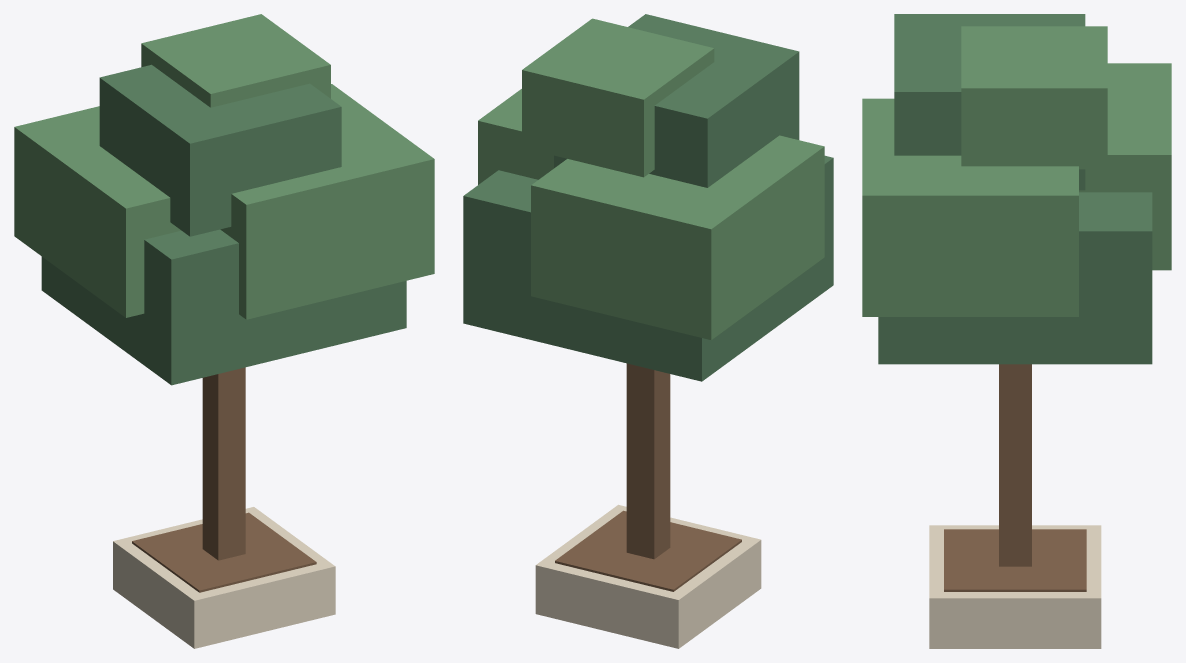
Rendered from SM_Arbol_Jardinera.fbx.
3 renders of one model, left to right at view 1: azimuth 30°, elevation 25°; view 2: azimuth 150°, elevation 25°; view 3: azimuth 270°, elevation 25°, orthographic. The views are drawn at different scales.
Visible parts, largest first — view 1: SM_Arbol_Jardinera; view 2: SM_Arbol_Jardinera; view 3: SM_Arbol_Jardinera.
Boxes of the visible parts, <box> form: SM_Arbol_Jardinera: <box>14,14,434,648</box>; SM_Arbol_Jardinera: <box>463,14,833,648</box>; SM_Arbol_Jardinera: <box>862,14,1171,648</box>.
Bounding box in the file's own units: 2.62 × 4.9 × 2.43.
